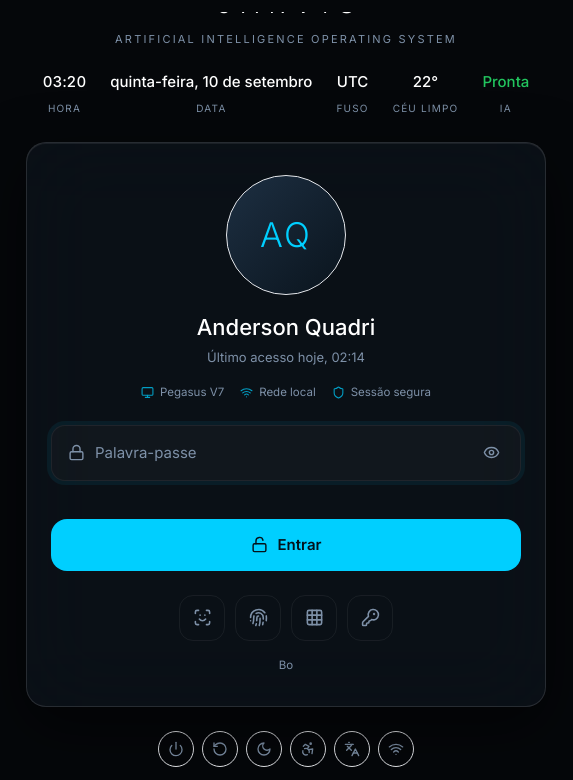
Scenario: LoginScreen › chave física › com chave registada mas verificação recusada (assinatura errada, cancelada, etc.), não entra
Click the button named "Chave física".
click(370, 618)  # box [347,595,393,641]
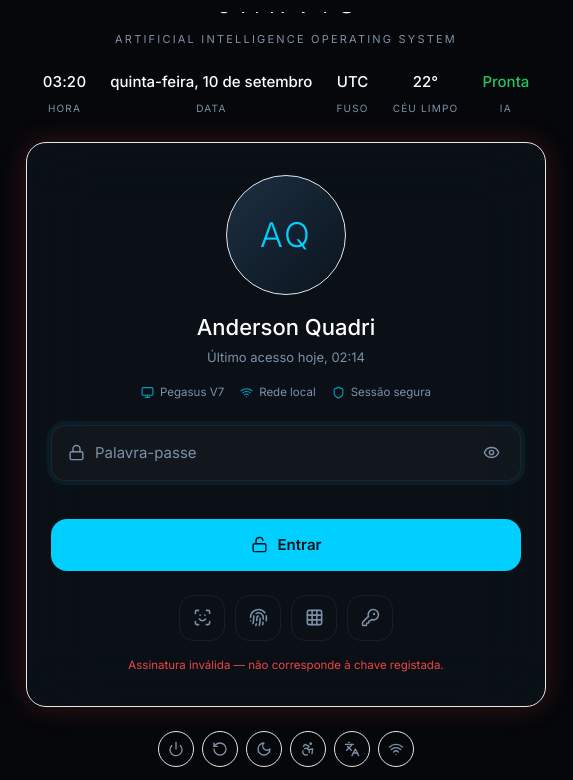
Check: the text "Assinatura inválida — não corresponde à chave registada." is shown, box [128,658,444,672]
